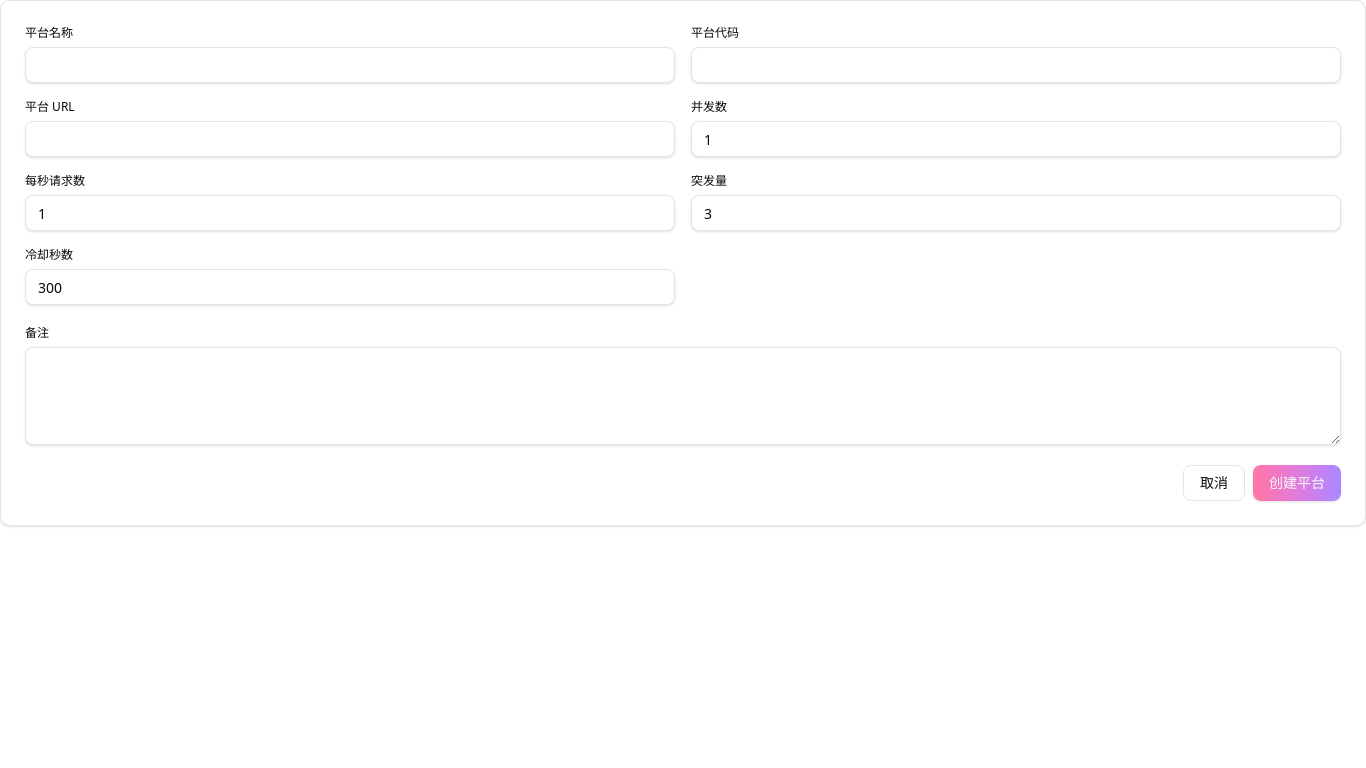
Test: PlatformForm › 以 Feedback 展示 409 错误
The image size is (1366, 768).
Type "名称" into the field labelled "平台名称". click: (350, 65)
box: [25,47,675,83]
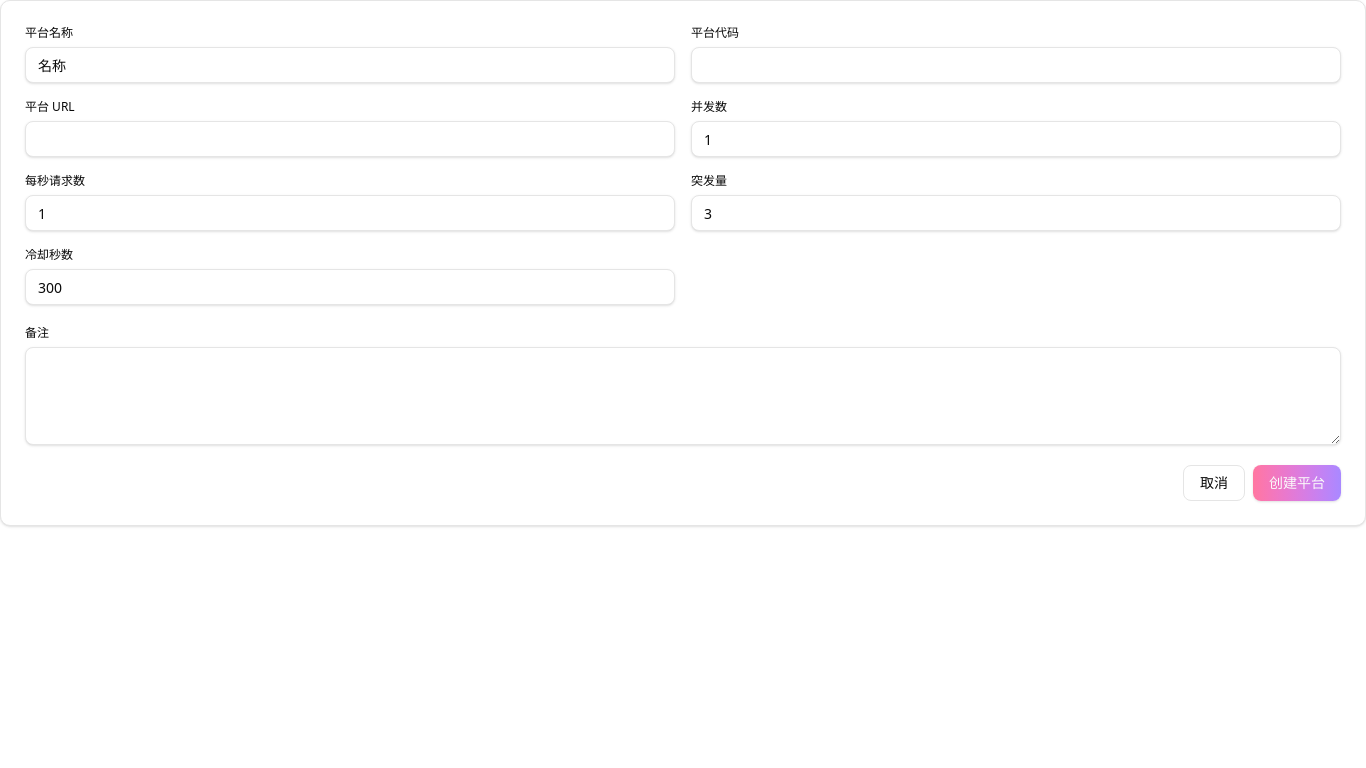
Type "code" into the field labelled "平台代码". click: (1016, 65)
box: [691,47,1341,83]
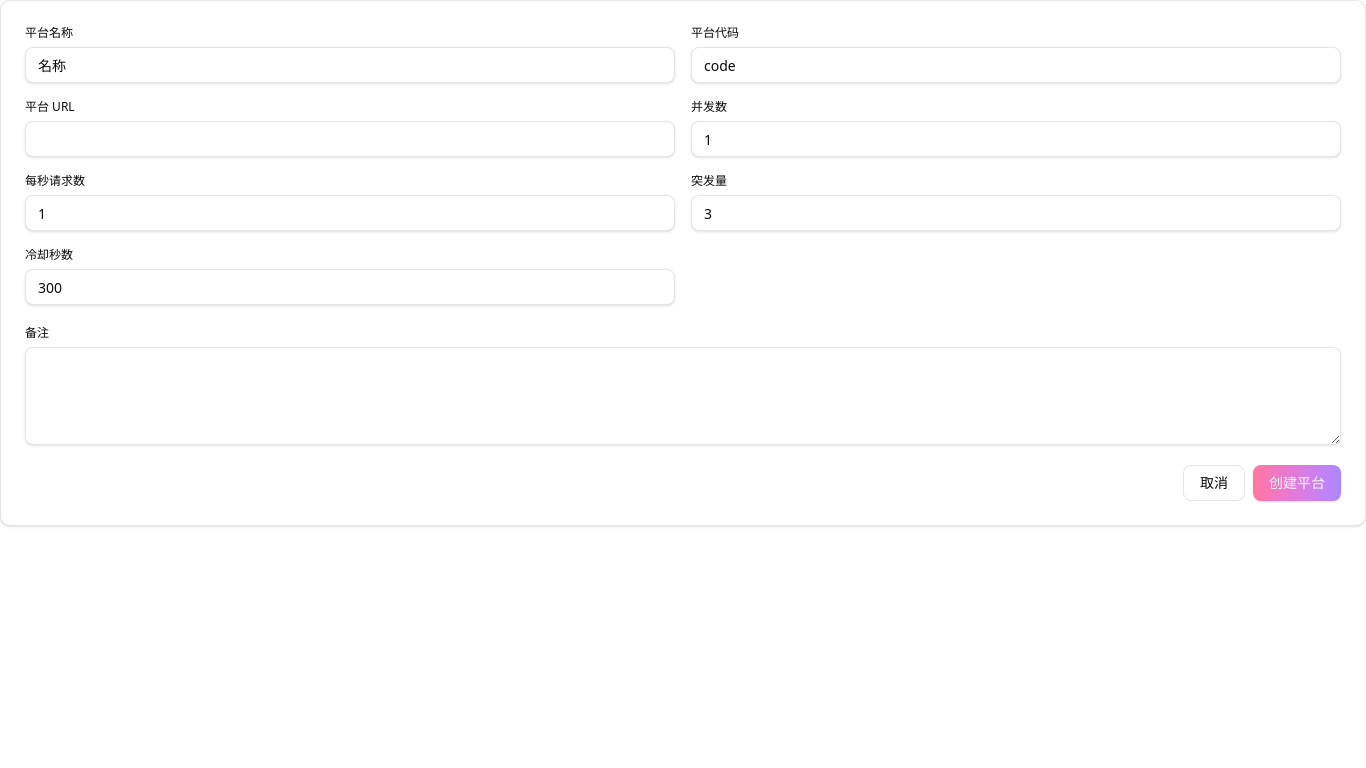
Submit the form "创建平台", box [25,25,1341,501]
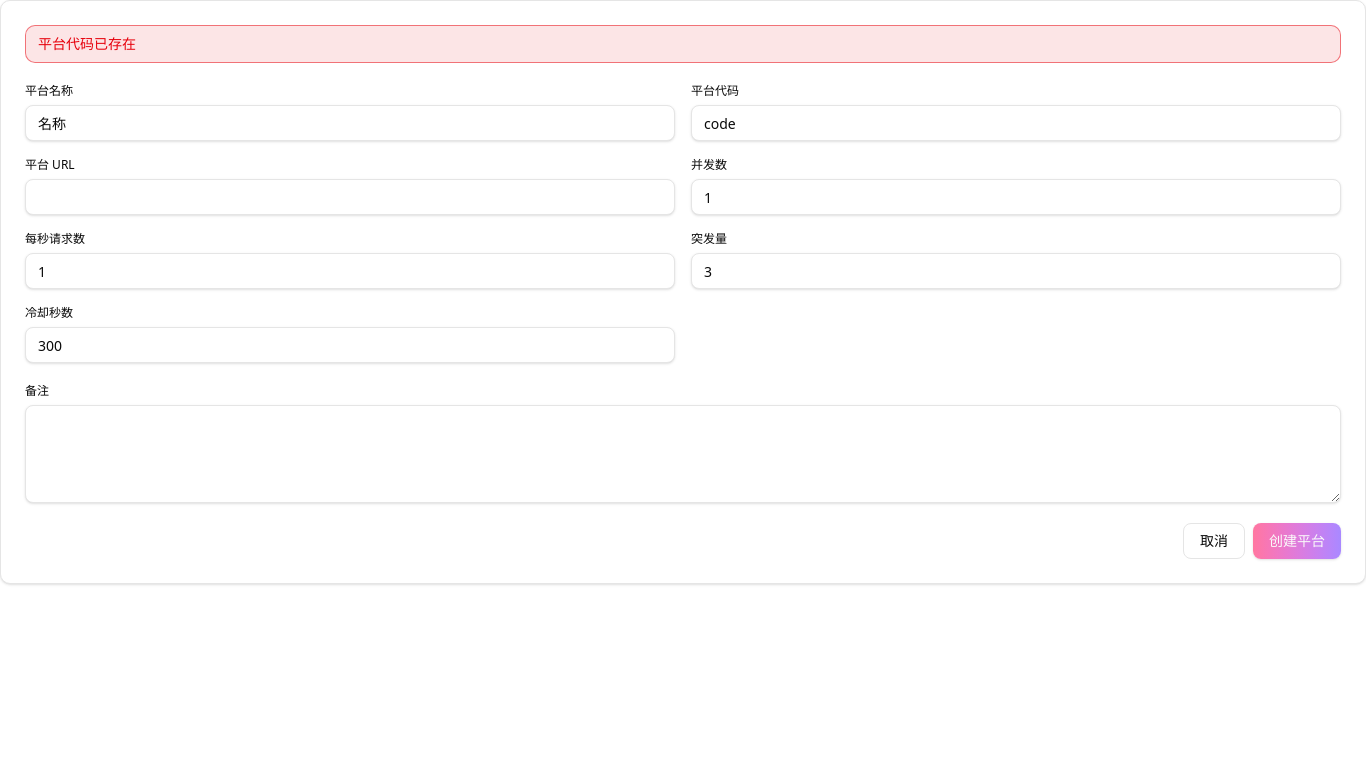
expect the message reads "平台代码已存在": met, box [38,34,136,53]
